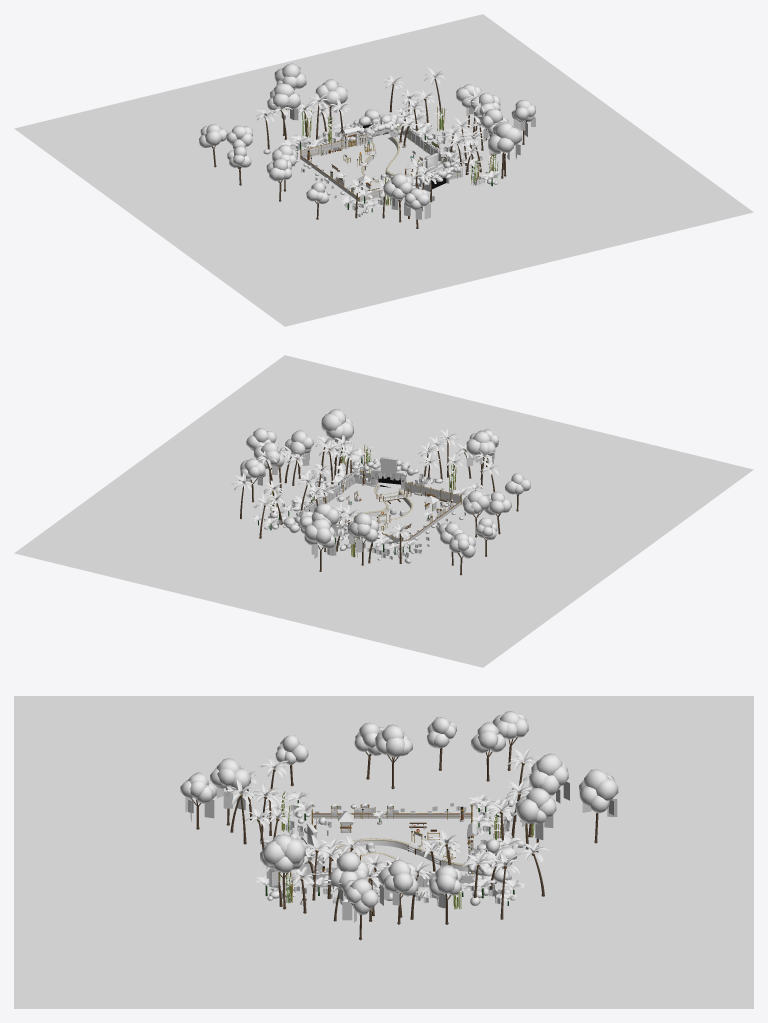
File: river.glb
The picture shows the model from 3 angles, top to bottom: view 1: azimuth 30°, elevation 25°; view 2: azimuth 150°, elevation 25°; view 3: azimuth 270°, elevation 25°; orthographic projection. The views are drawn at different scales.
Visible parts, largest first — view 1: S_tile_leaflitter, S_tile_canopy, S_cut, S_matte, S_tile_sandstone, S_tile_templestone, S_tile_riverrock, S_satin, S_tile_riverbed, S_tile_bamboo; view 2: S_tile_leaflitter, S_tile_canopy, S_cut, S_matte, S_tile_sandstone, S_tile_templestone, S_tile_bamboo, S_tile_riverrock, S_satin, S_tile_hedge, S_tile_riverbed; view 3: S_tile_leaflitter, S_tile_canopy, S_cut, S_matte, S_tile_sandstone, S_tile_riverrock, S_tile_templestone, S_satin, S_tile_riverbed, S_tile_hedge, S_tile_bamboo, S_tile_planks.
Boxes of the visible parts, x1=… form: S_tile_leaflitter: x1=14, y1=14, x2=753, y2=326; S_tile_canopy: x1=199, y1=63, x2=535, y2=209; S_cut: x1=256, y1=67, x2=535, y2=219; S_matte: x1=211, y1=78, x2=527, y2=228; S_tile_sandstone: x1=305, y1=134, x2=439, y2=197; S_tile_templestone: x1=308, y1=125, x2=463, y2=191; S_tile_riverrock: x1=296, y1=109, x2=498, y2=212; S_satin: x1=301, y1=106, x2=498, y2=205; S_tile_riverbed: x1=364, y1=138, x2=417, y2=183; S_tile_bamboo: x1=301, y1=127, x2=460, y2=201; S_tile_leaflitter: x1=14, y1=355, x2=753, y2=667; S_tile_canopy: x1=240, y1=409, x2=530, y2=558; S_cut: x1=231, y1=429, x2=500, y2=559; S_matte: x1=240, y1=438, x2=518, y2=575; S_tile_sandstone: x1=327, y1=483, x2=456, y2=541; S_tile_templestone: x1=299, y1=457, x2=448, y2=534; S_tile_bamboo: x1=344, y1=471, x2=460, y2=544; S_tile_riverrock: x1=264, y1=461, x2=462, y2=560; S_satin: x1=270, y1=444, x2=460, y2=557; S_tile_hedge: x1=269, y1=461, x2=463, y2=563; S_tile_riverbed: x1=337, y1=486, x2=410, y2=523; S_tile_leaflitter: x1=14, y1=696, x2=753, y2=1008; S_tile_canopy: x1=180, y1=711, x2=618, y2=914; S_cut: x1=185, y1=748, x2=617, y2=922; S_matte: x1=191, y1=737, x2=598, y2=940; S_tile_sandstone: x1=313, y1=818, x2=470, y2=872; S_tile_riverrock: x1=267, y1=808, x2=521, y2=900; S_tile_templestone: x1=288, y1=819, x2=473, y2=887; S_satin: x1=278, y1=791, x2=534, y2=909; S_tile_riverbed: x1=322, y1=845, x2=468, y2=873; S_tile_hedge: x1=260, y1=799, x2=525, y2=905; S_tile_bamboo: x1=313, y1=814, x2=470, y2=818; S_tile_planks: x1=328, y1=808, x2=467, y2=896.
Size of the model in its own units: 140 by 16.88 by 140.
